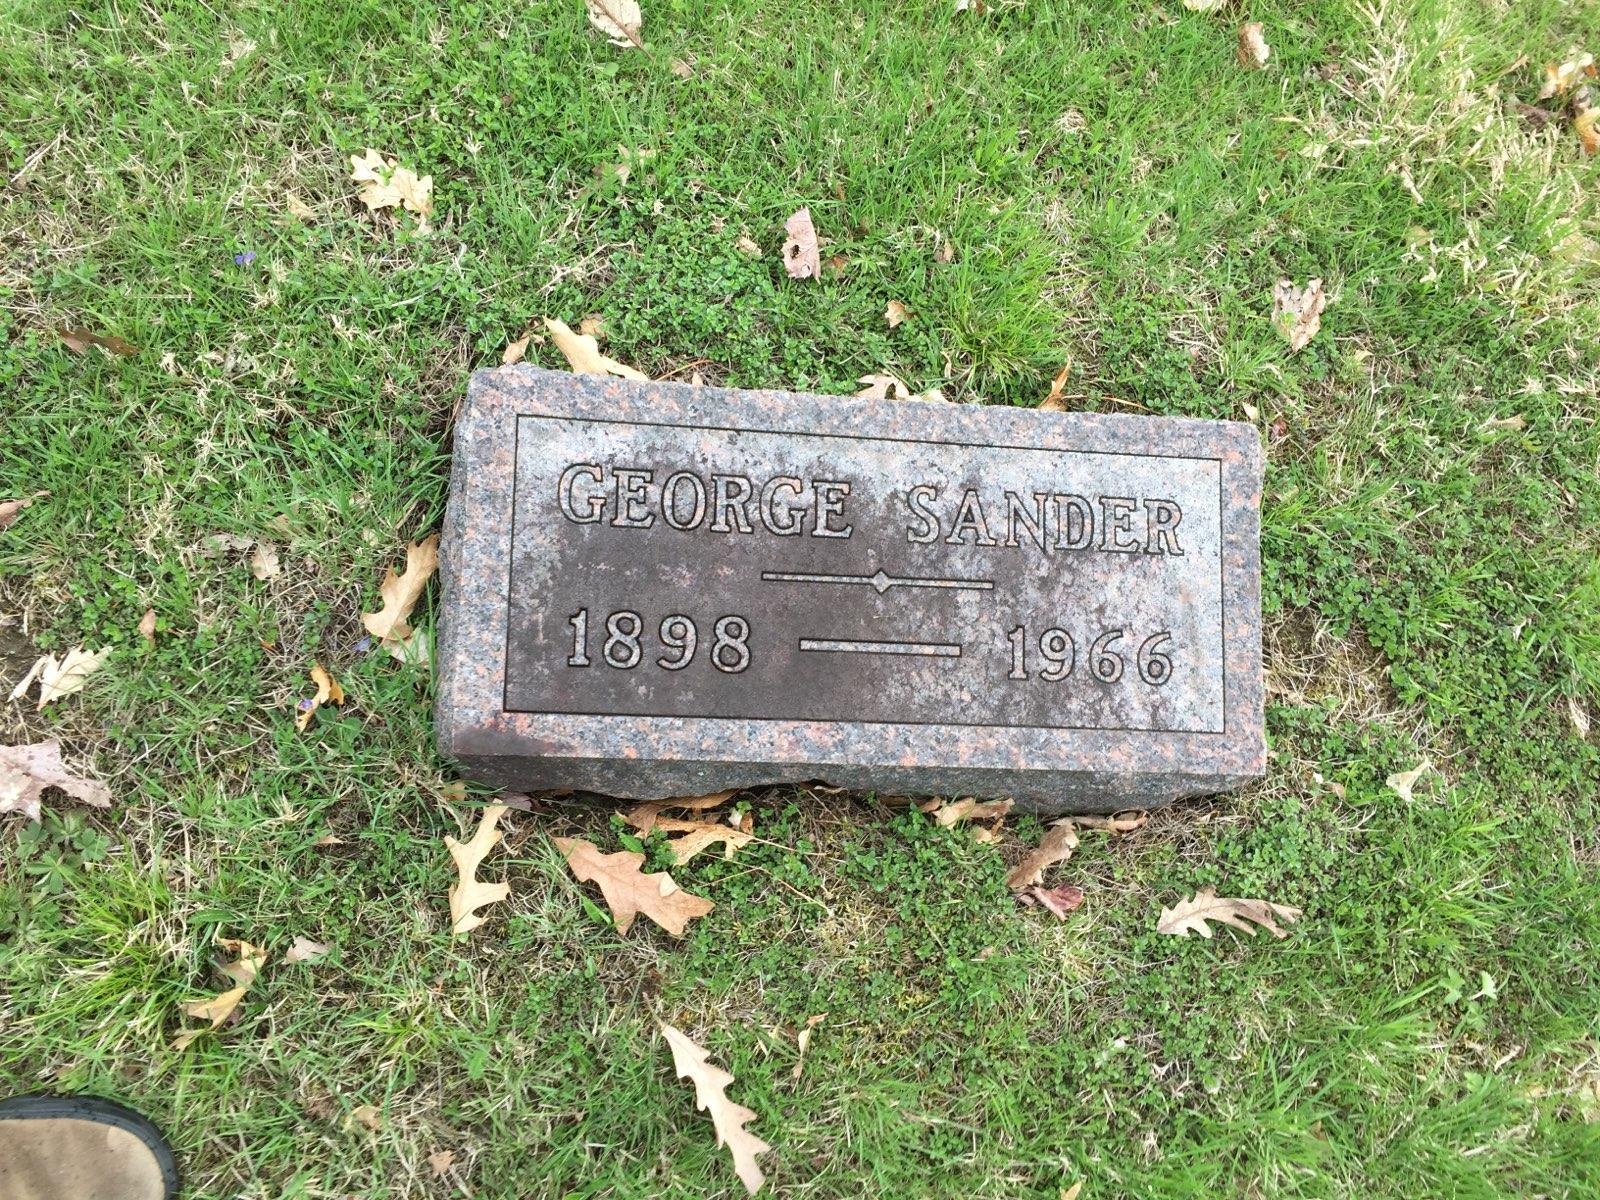flat: (450, 371, 1270, 802)
